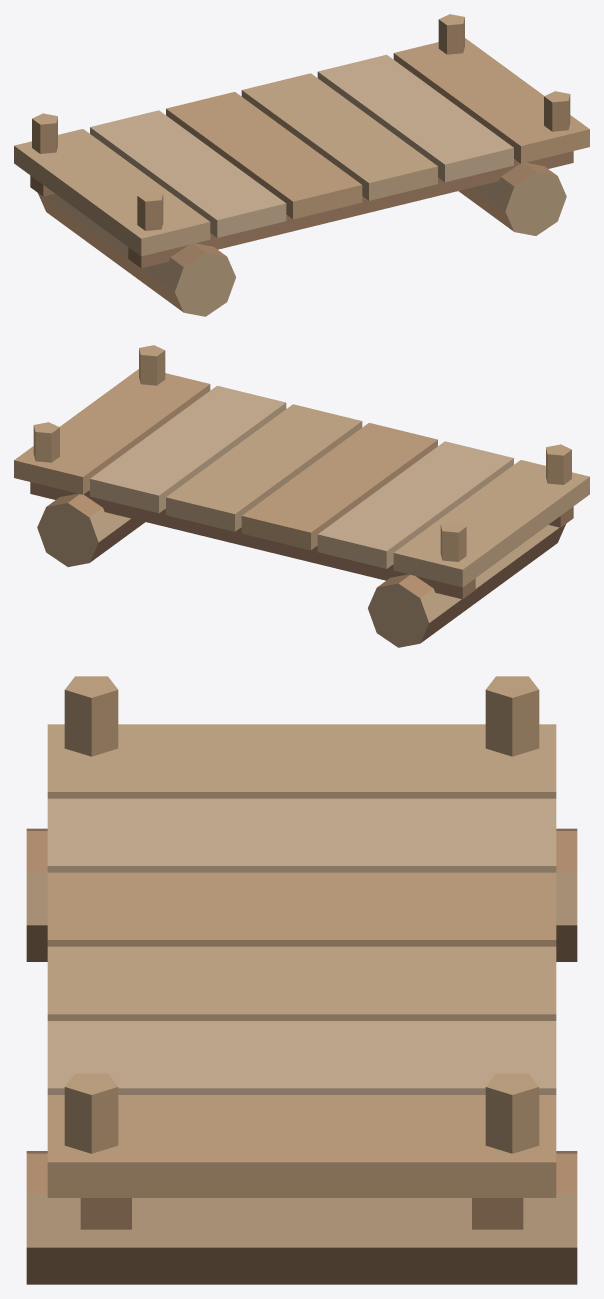
The picture shows the model from 3 angles, top to bottom: view 1: azimuth 30°, elevation 25°; view 2: azimuth 150°, elevation 25°; view 3: azimuth 270°, elevation 25°; orthographic projection. The views are drawn at different scales.
Visible parts, largest first — view 1: world; view 2: world; view 3: world.
Boxes of the visible parts, x1,y1,x2,y2 form: world: [14, 14, 589, 316]; world: [14, 345, 589, 647]; world: [26, 676, 577, 1284].
Size of the model in its own units: 4.24 by 1.07 by 2.25.
